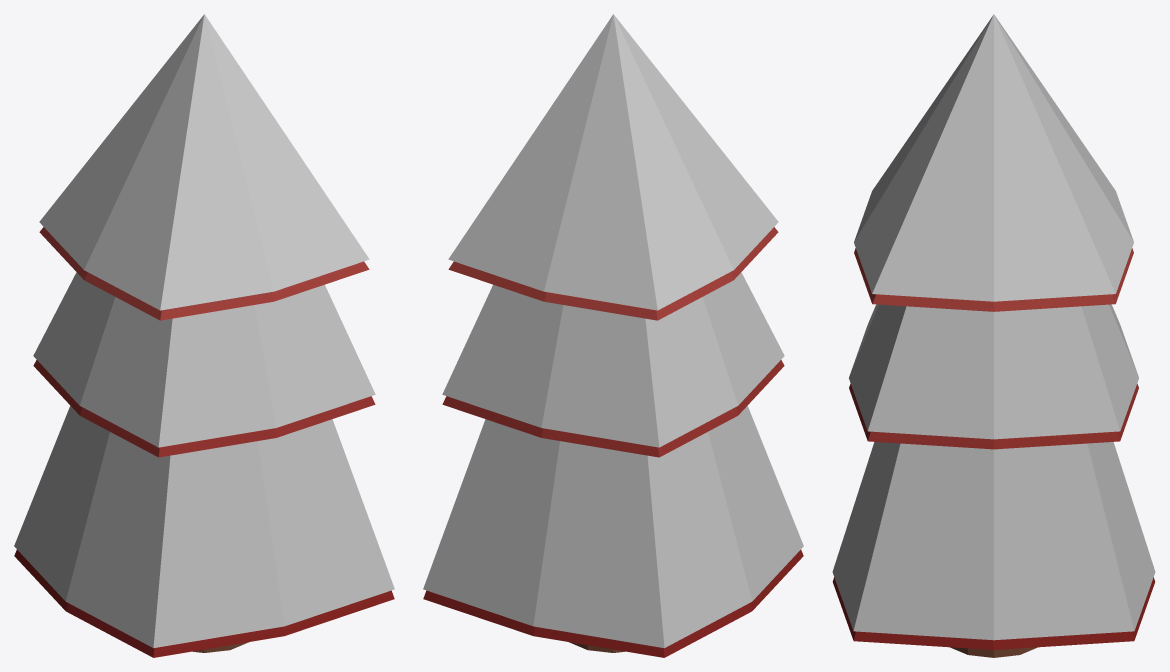
File: Tree_23_winter_gradient_red_vc.fbx
3 views of the same model, side by side, from view 1: azimuth 30°, elevation 25°; view 2: azimuth 150°, elevation 25°; view 3: azimuth 270°, elevation 25° (orthographic).
Parts seen in each view (by area): view 1: Tree_23_winter_gradient_red_vc; view 2: Tree_23_winter_gradient_red_vc; view 3: Tree_23_winter_gradient_red_vc.
Boxes of the visible parts, x1,y1,x2,y2 form: Tree_23_winter_gradient_red_vc: (14,14,394,657); Tree_23_winter_gradient_red_vc: (423,14,803,657); Tree_23_winter_gradient_red_vc: (832,14,1155,657).
Bounding box in the file's own units: 90.18 × 192 × 90.18.
